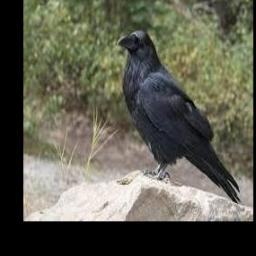Crow: (117, 30, 241, 205)
